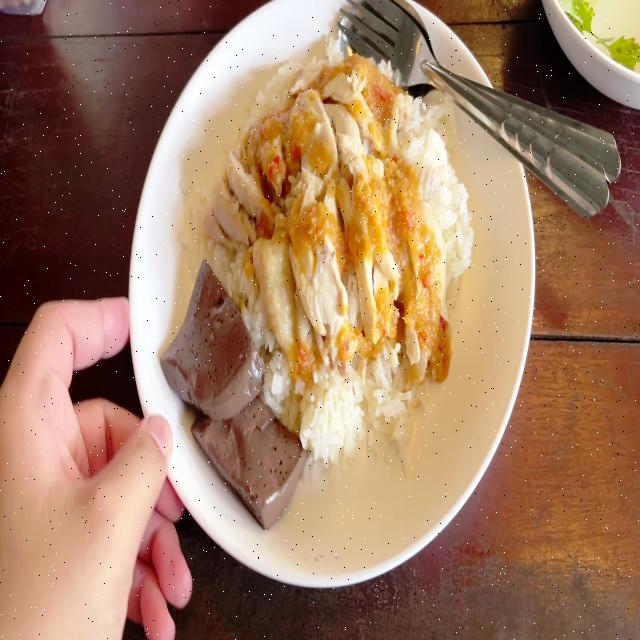boiled_chicken: (241, 61, 431, 372)
boiled_chicken_blood_jelly: (193, 362, 306, 523), (158, 254, 251, 423)
chicken_rice: (164, 31, 475, 522)
